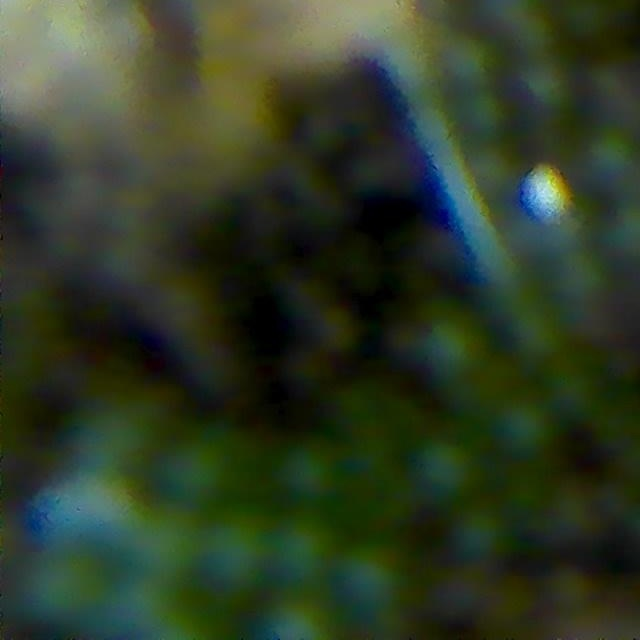SeaGrape: (21, 553, 104, 628), (132, 503, 206, 582), (202, 509, 276, 587), (336, 543, 405, 613), (271, 515, 338, 584), (414, 436, 481, 500), (420, 315, 485, 378), (278, 441, 340, 501), (495, 397, 556, 457), (449, 503, 510, 562), (265, 595, 340, 639), (518, 54, 574, 111), (440, 33, 495, 89), (584, 130, 637, 187), (454, 88, 507, 140)
